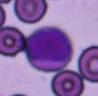L: (25, 26, 74, 72)
